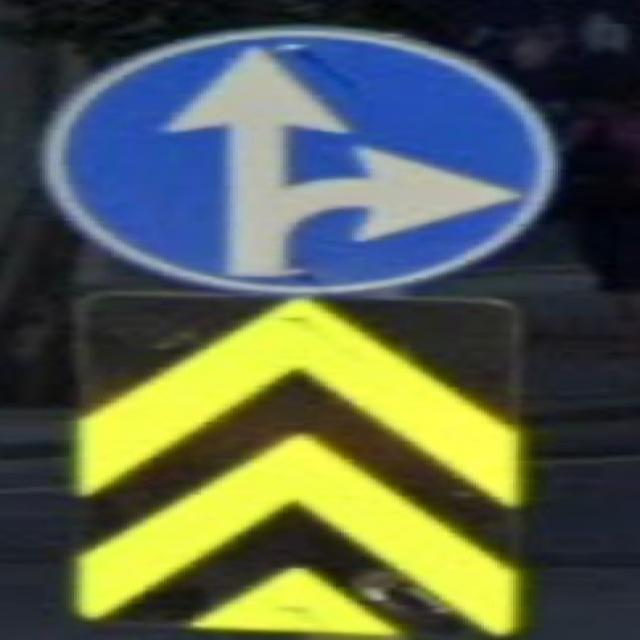Straight or Right: (50, 28, 563, 294)
